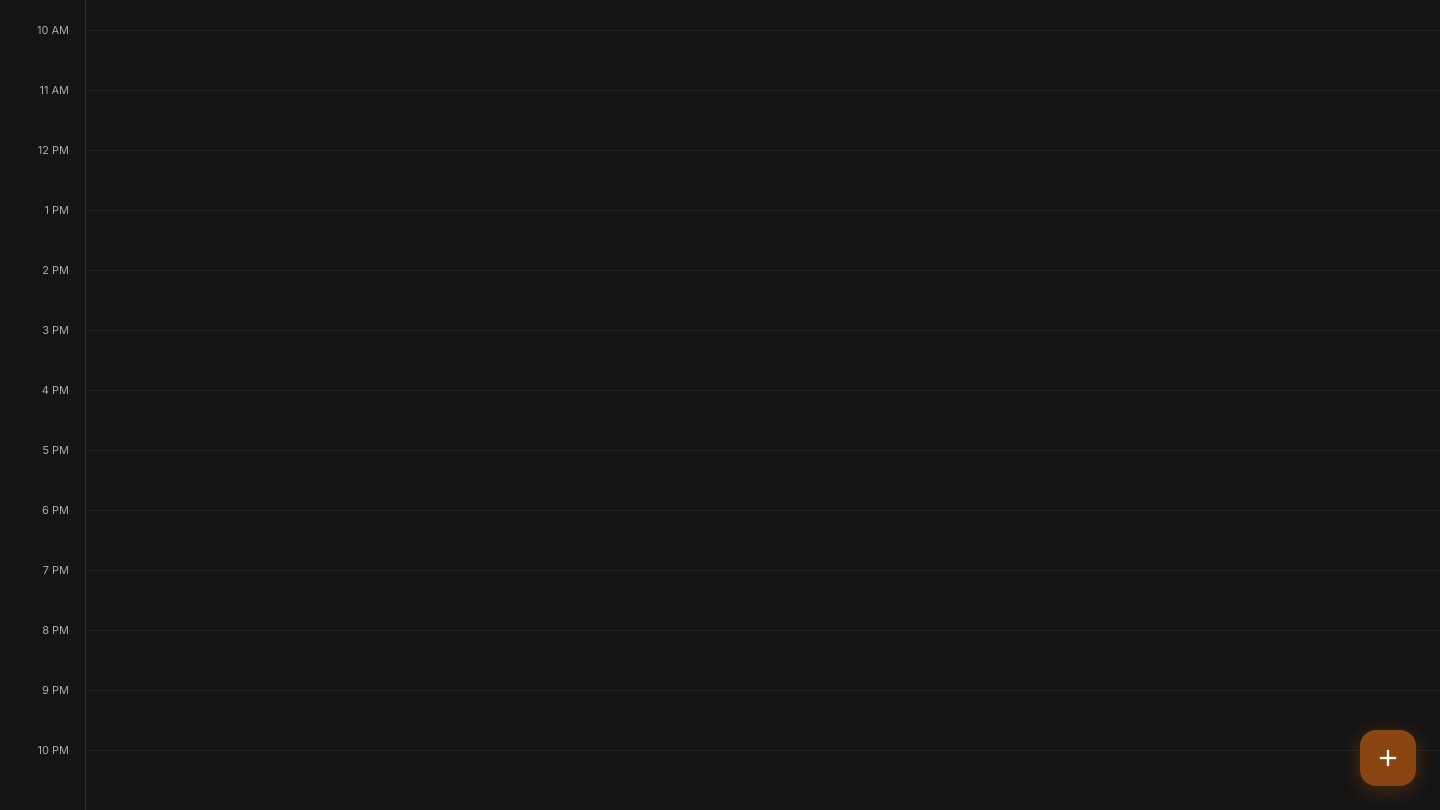
Scenario: AgendaManager › permite buscar y escoger clientes mostrando solamente sus nombres
(page scrolled)
Click the button named "Nueva cita" at (1388, 758), box x1=1360 y1=730 x2=1416 y2=786
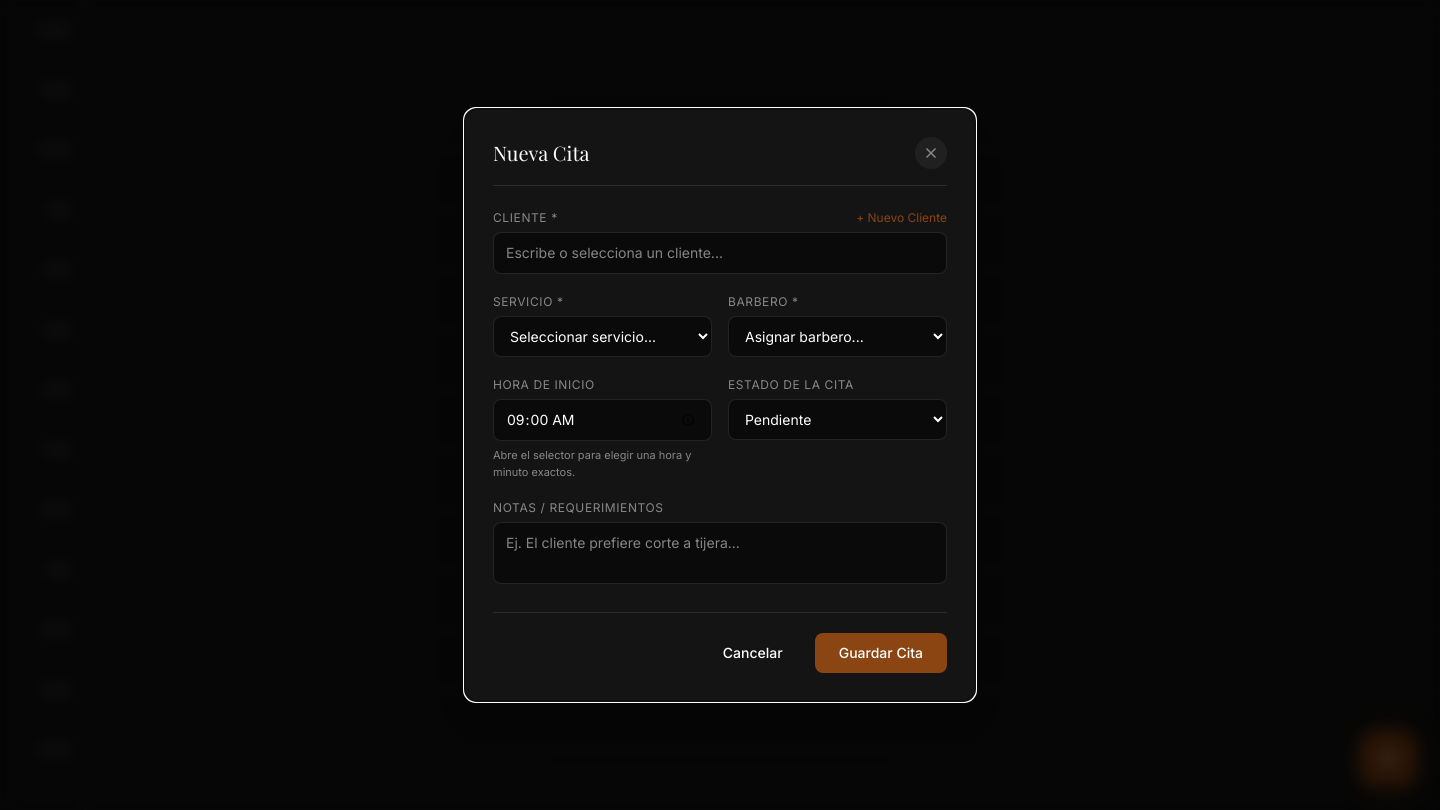
Now the dialog "Nueva Cita" is shown, box x1=464 y1=108 x2=976 y2=702
Click the dropdown labelled "cliente" at (720, 253), box x1=493 y1=232 x2=947 y2=274
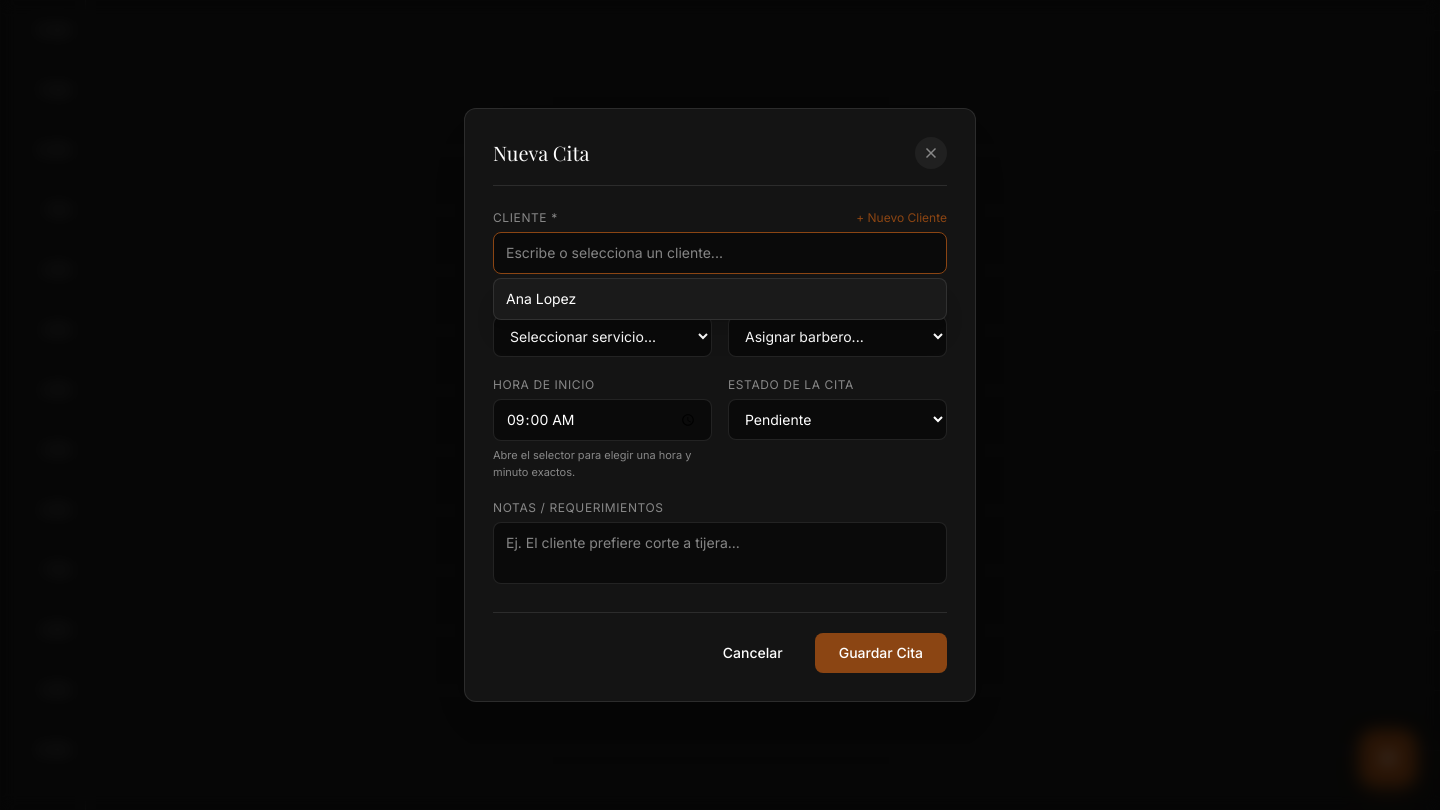
Expected: the dialog "Nueva Cita" does not show "3001234567", x1=464 y1=108 x2=976 y2=702
Now the option "Ana Lopez" is shown, box x1=494 y1=279 x2=946 y2=319
Type "Ana" into the dropdown labelled "cliente" at (720, 253), box x1=493 y1=232 x2=947 y2=274
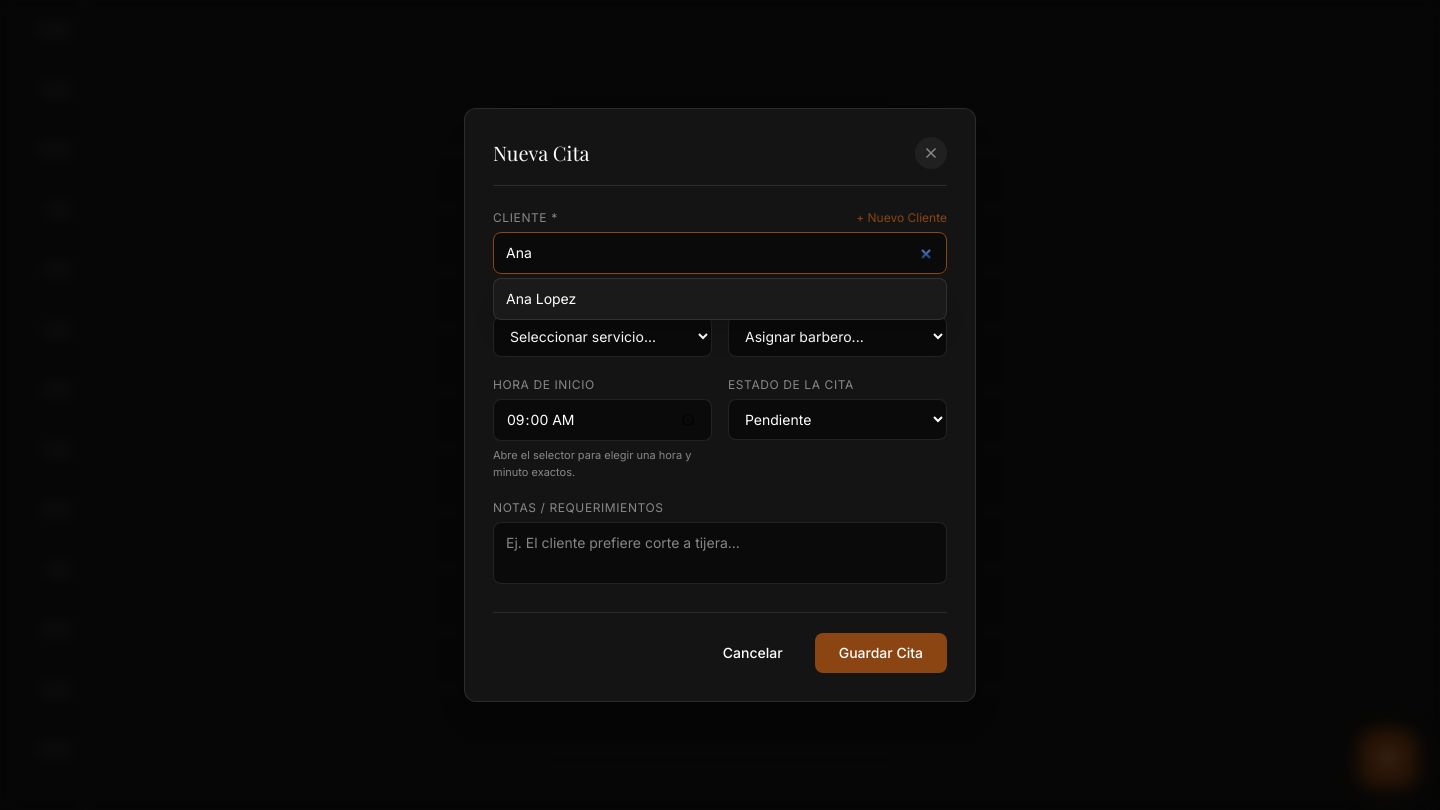
Click the option "Ana Lopez" at (541, 298), box x1=494 y1=279 x2=946 y2=319
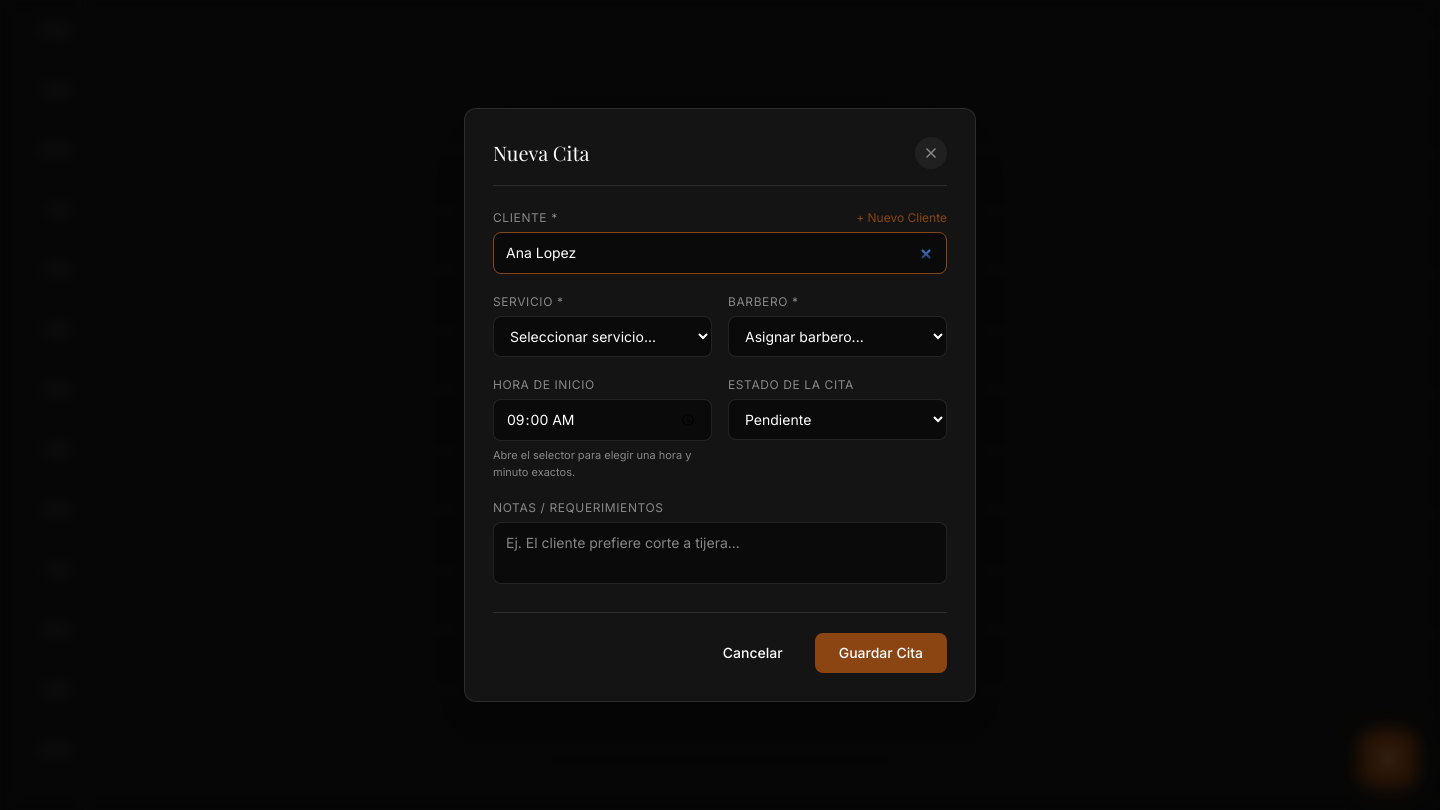
Now the dropdown named "cliente" holds "Ana Lopez", box x1=493 y1=232 x2=947 y2=274
